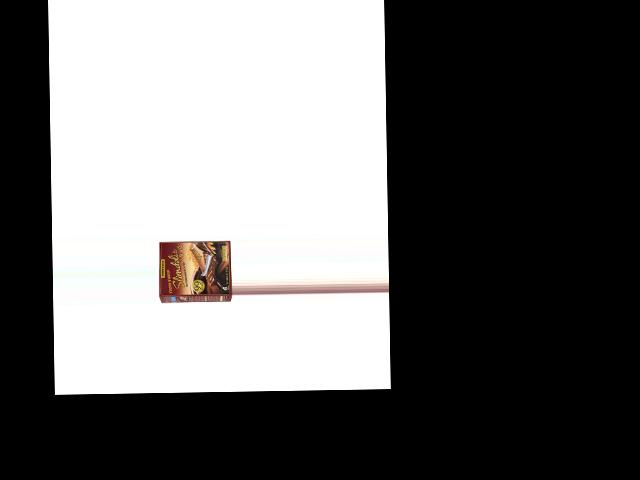chocolate: (157, 234, 232, 306)
